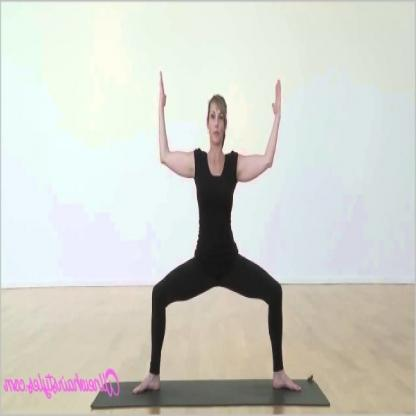godness: (130, 65, 305, 400)
